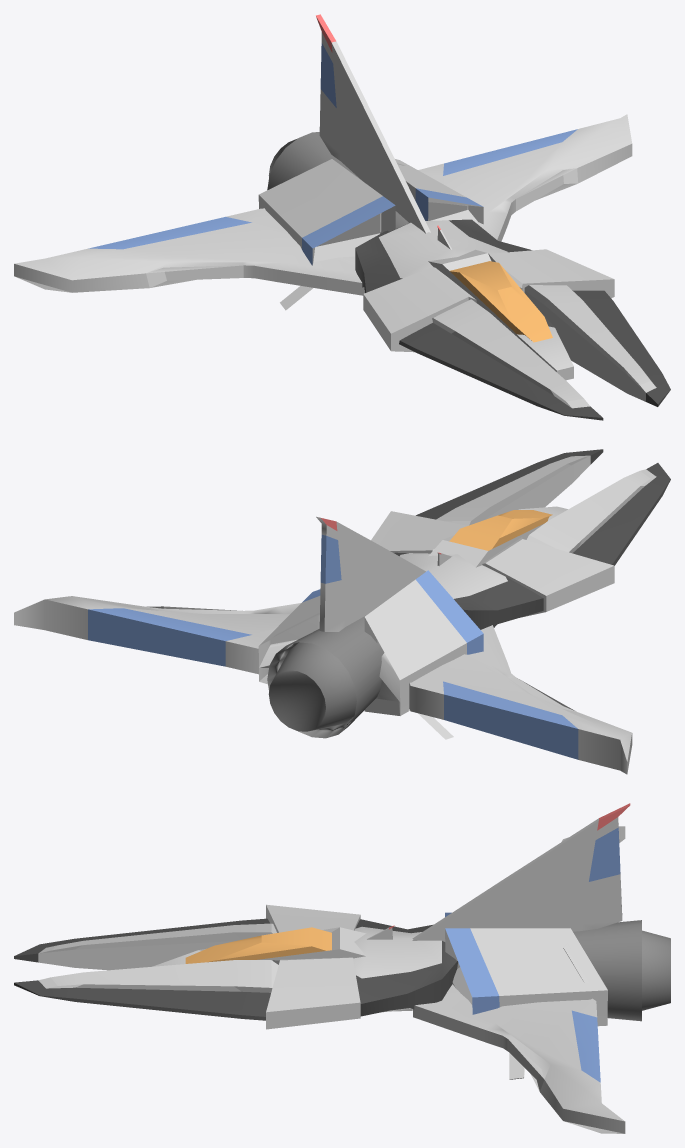
File: GradiusExport.fbx
The picture shows the model from 3 angles, top to bottom: view 1: azimuth 30°, elevation 25°; view 2: azimuth 150°, elevation 25°; view 3: azimuth 270°, elevation 25°; orthographic projection.
Parts seen in each view (by area): view 1: HorizontalStabilizer_Left, Cannon, StabilizerCover, CannonJoint, VerticalStabilizer, CenterJoint, Cover, MainShip, Injection; view 2: HorizontalStabilizer_Left, Cannon, StabilizerCover, Injection, CannonJoint, VerticalStabilizer, CenterJoint, Cover, MainShip; view 3: Cannon, HorizontalStabilizer_Left, VerticalStabilizer, StabilizerCover, CannonJoint, CenterJoint, Injection, Cover, MainShip.
Boxes of the visible parts, x1,y1,x2,y2 form: HorizontalStabilizer_Left: (14,114,632,295); Cannon: (399,285,670,420); StabilizerCover: (258,159,483,265); CannonJoint: (363,249,614,352); VerticalStabilizer: (316,14,430,233); CenterJoint: (355,219,531,292); Cover: (450,261,552,342); MainShip: (428,249,573,380); Injection: (267,132,408,233); HorizontalStabilizer_Left: (14,596,632,774); Cannon: (416,449,670,565); StabilizerCover: (258,570,483,715); Injection: (267,615,384,738); CannonJoint: (371,511,614,617); VerticalStabilizer: (316,516,425,631); CenterJoint: (394,552,543,629); Cover: (449,510,552,550); MainShip: (428,506,567,567); Cannon: (14,918,278,1020); HorizontalStabilizer_Left: (413,826,625,1133); VerticalStabilizer: (412,803,630,941); StabilizerCover: (445,912,607,1026); CannonJoint: (266,904,360,1029); CenterJoint: (353,919,458,1016); Injection: (455,920,670,1021); Cover: (185,927,331,963); MainShip: (153,927,412,1011).
Size of the model in its own units: 21.39 by 7.95 by 20.13.
